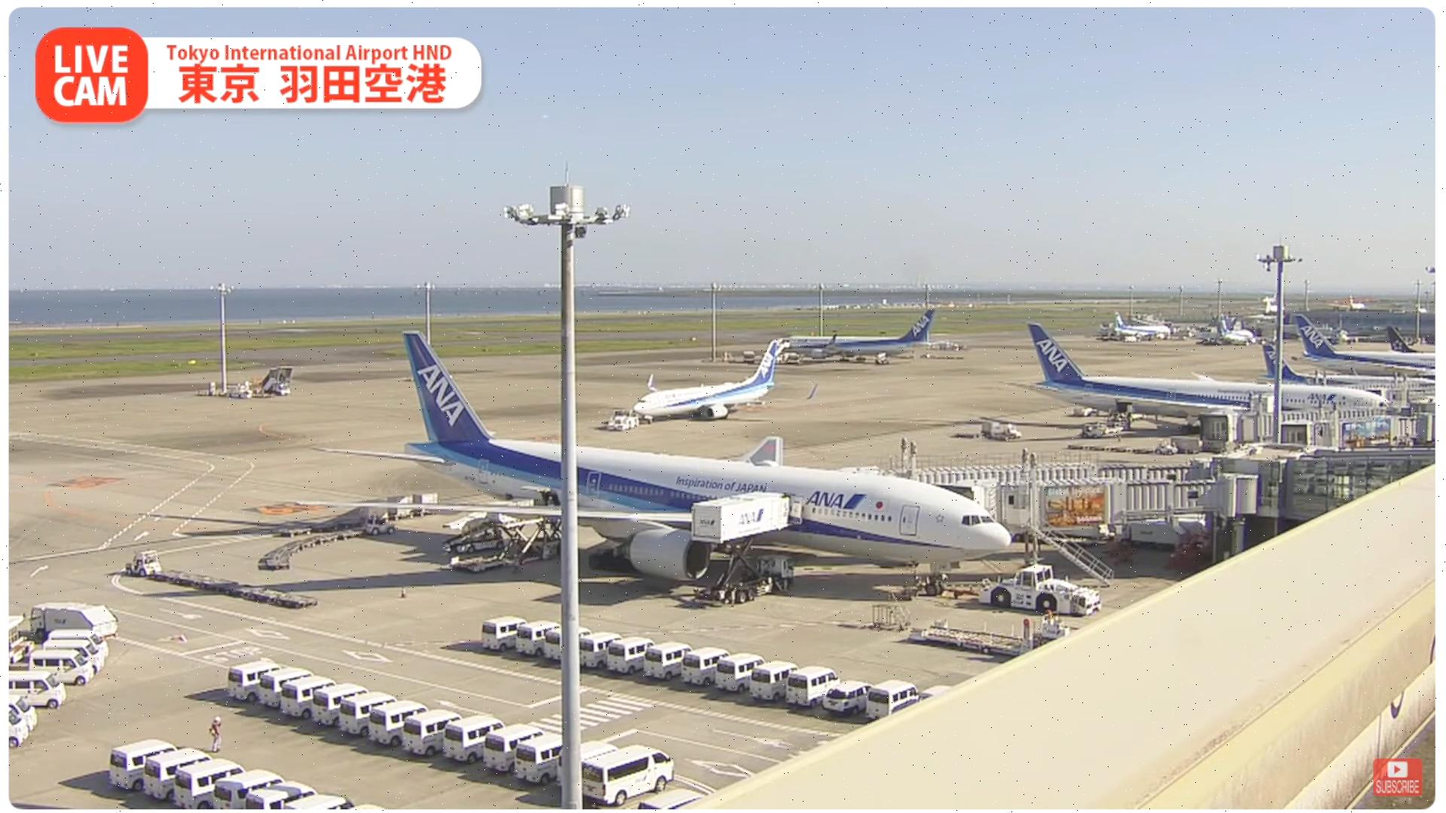APS: (982, 565, 1107, 615)
Aerobridge: (880, 463, 1198, 520), (990, 479, 1258, 539)
Airplane: (308, 328, 1018, 599)
Catering: (686, 489, 792, 606)
Dolly: (273, 486, 442, 537), (161, 571, 319, 614), (260, 530, 366, 573)
JCPL: (903, 609, 1073, 659), (480, 504, 562, 572)
Skyloader: (444, 505, 507, 558)
Tractor: (128, 549, 162, 590), (366, 517, 398, 539)
Window: (1281, 462, 1437, 524)
